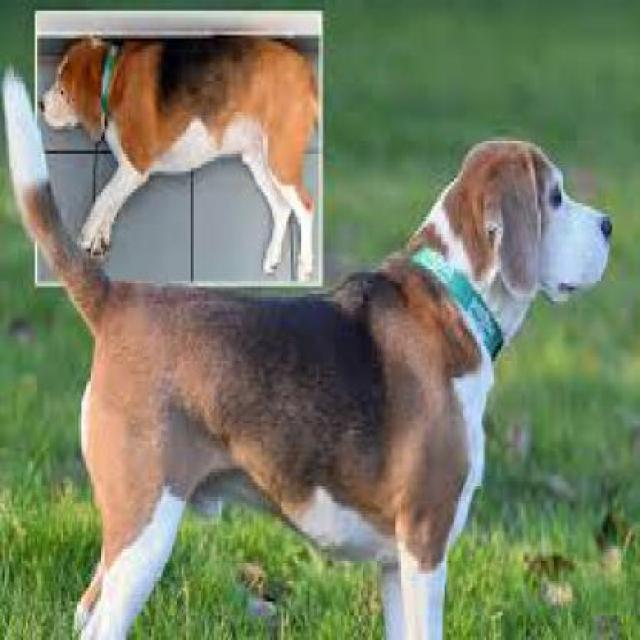Dog: (0, 66, 620, 637)
